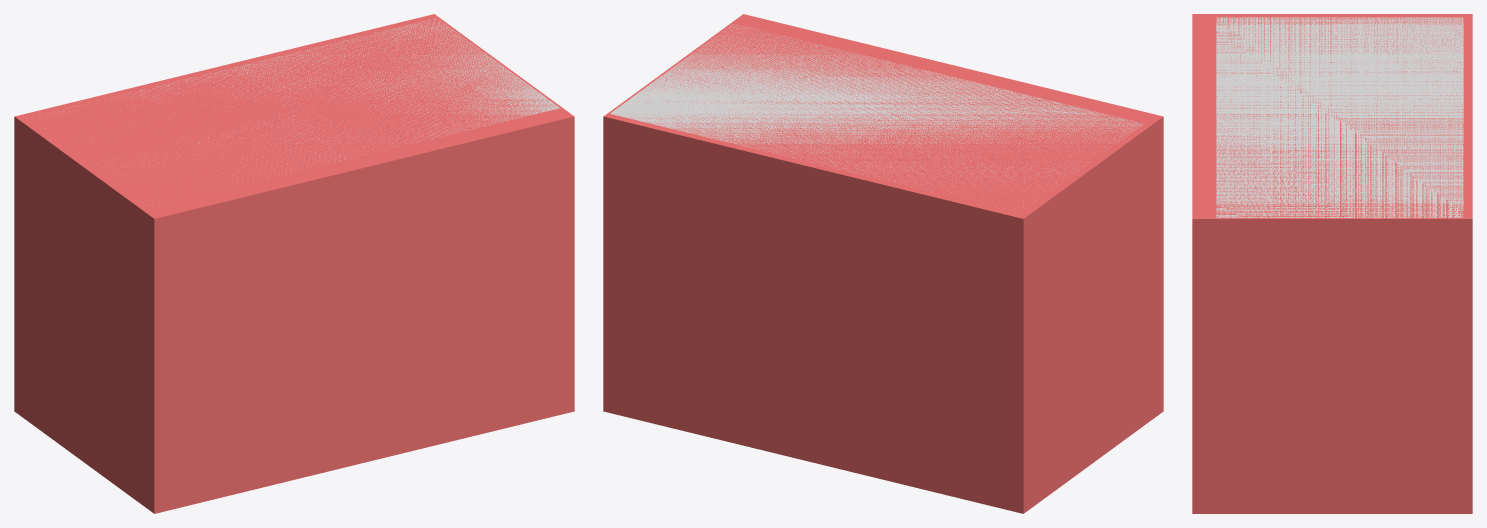
File: prop_table_01.glb
3 views of the same model, side by side, from view 1: azimuth 30°, elevation 25°; view 2: azimuth 150°, elevation 25°; view 3: azimuth 270°, elevation 25° (orthographic).
Parts seen in each view (by area): view 1: brush_box.005, prop_table_01; view 2: brush_box.005, prop_table_01; view 3: brush_box.005, prop_table_01.
Boxes of the visible parts, bbox=[...] form: brush_box.005: bbox=[14, 14, 574, 513]; prop_table_01: bbox=[31, 18, 559, 179]; brush_box.005: bbox=[603, 14, 1163, 513]; prop_table_01: bbox=[610, 24, 1144, 212]; brush_box.005: bbox=[1192, 14, 1472, 513]; prop_table_01: bbox=[1216, 17, 1463, 217].
Size of the model in its own units: 1.49 by 1 by 0.8602.
